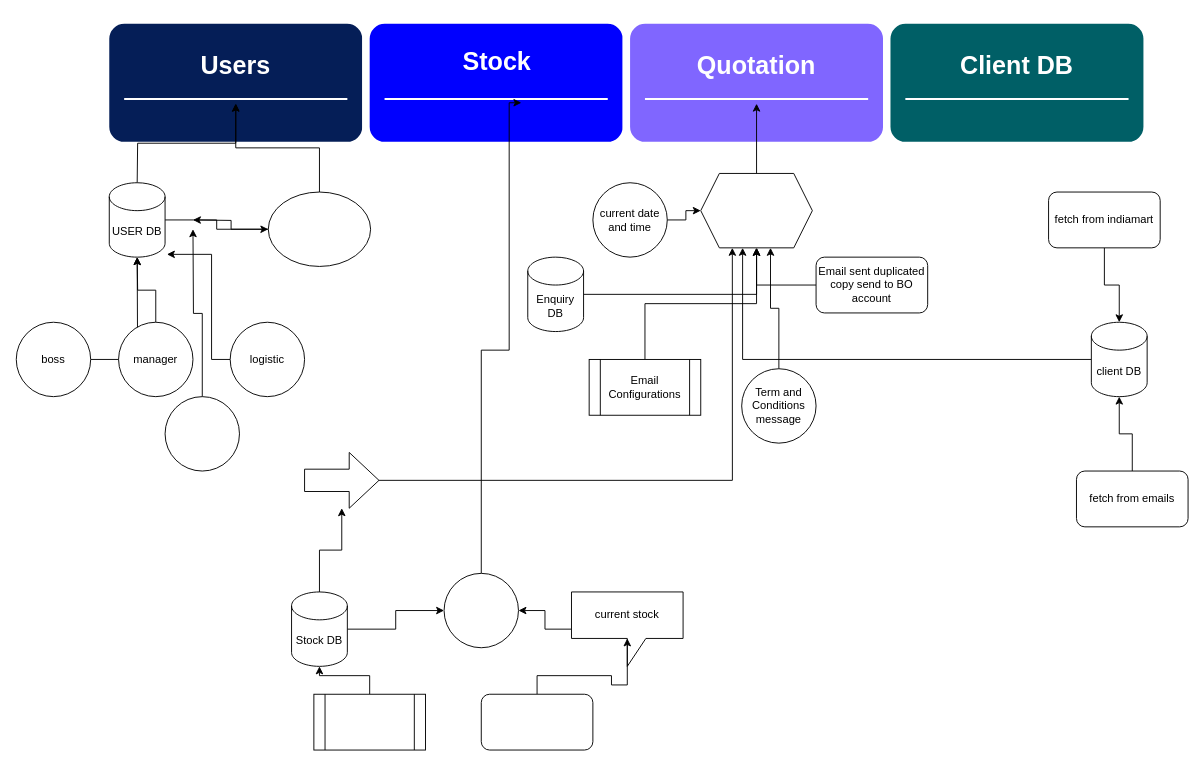
Image size: 1204x766. Some labels were removed from this diagram. The centre of each missing label's shape, as x and y in pixels:
admin: (319,228)
courier details: (536,721)
for Quote: (341,480)
It: (201,433)
new stocks: (369,721)
offer no: (756,210)
user: (480,610)
